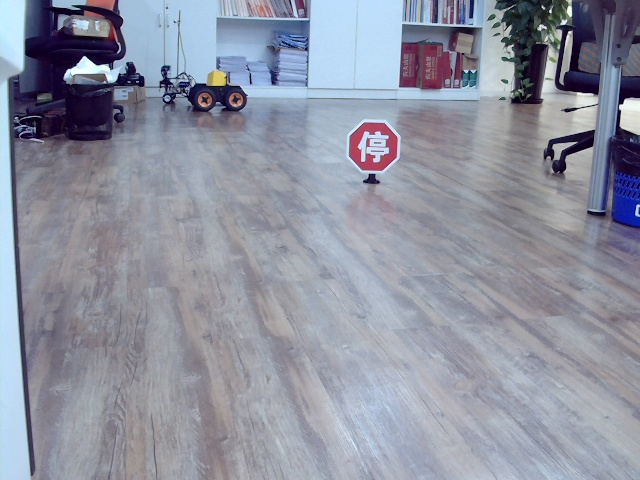stop: (355, 128, 390, 162)
